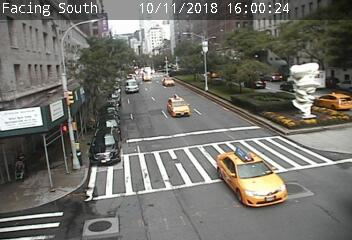car: (217, 152, 288, 206), (167, 98, 190, 117), (162, 77, 175, 86), (142, 74, 152, 81)
